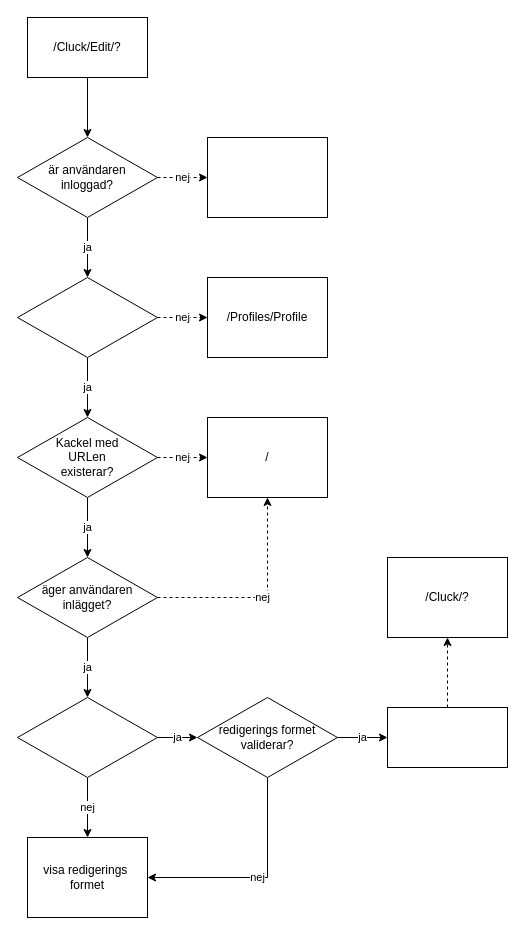
The diagram is 525 pixels wide and 935 high, and some of its shapes have lost their labels. The centre of each missing label's shape, as x and y in pixels:
"/Login" belongs at point (267, 177).
"har användaren en profil?" belongs at point (87, 317).
"POST?" belongs at point (87, 737).
"redigera inlägget i databasen" belongs at point (447, 737).
